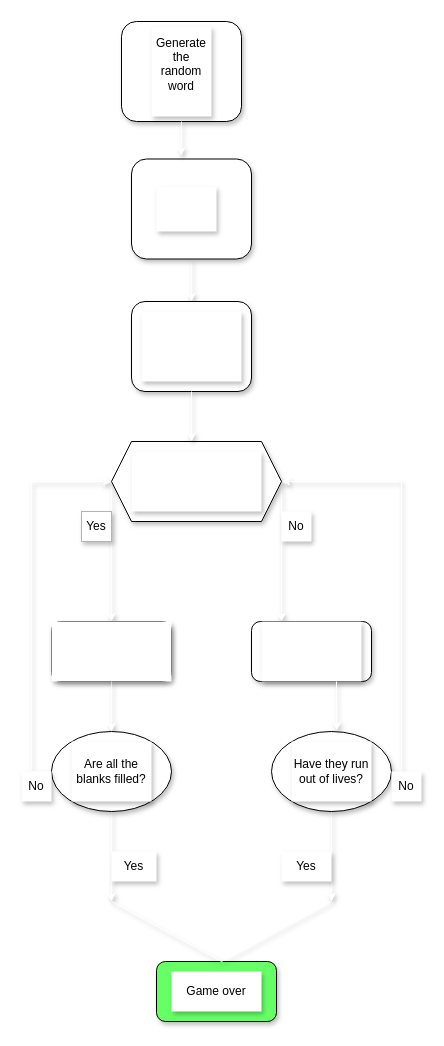
Some shapes in this 444 by 1046 pixel diagram are drawn without their labels. The shapes that lost their labels are listed below. From the top down, each one's centre as x and y in pixels, then its label:
At (187,210): "Generate the blanks for the letters in words".
At (192,347): "Ask the user to guess the letter".
At (197,482): "Is the guessed letter in the word?".
At (112,652): "Replace the blank with the letter".
At (312,652): "Lose a life".
